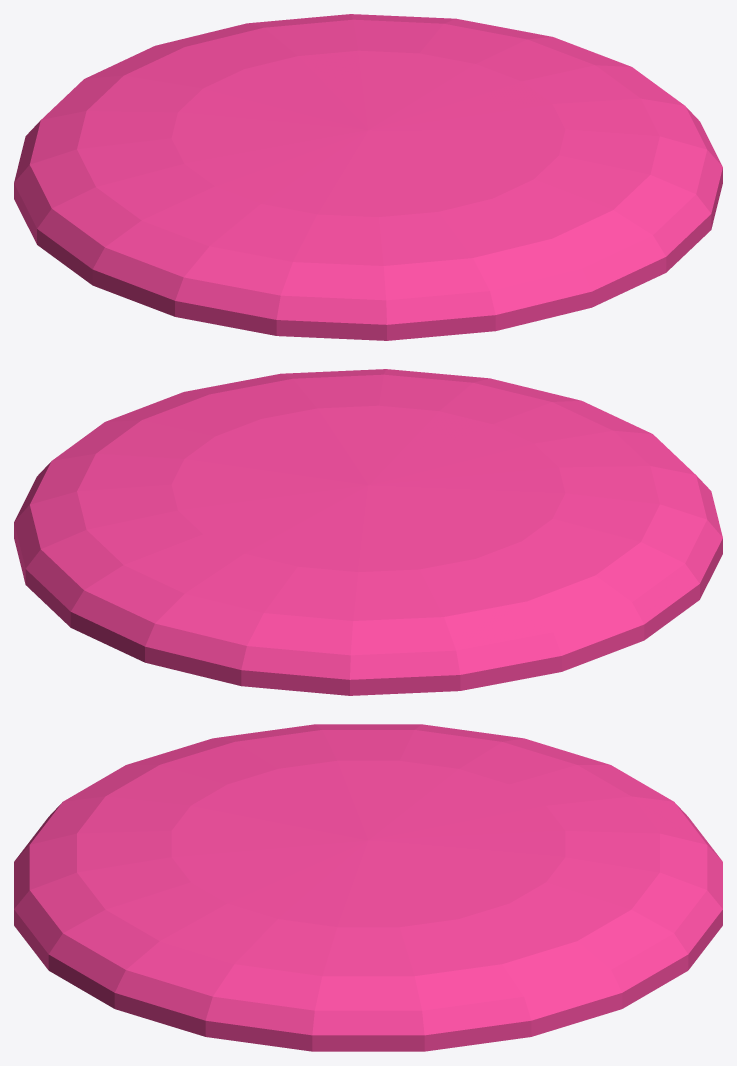
File: jelly_pad.fbx
3 renders of one model, top to bottom at view 1: azimuth 30°, elevation 25°; view 2: azimuth 150°, elevation 25°; view 3: azimuth 270°, elevation 25°, orthographic.
Parts seen in each view (by area): view 1: Jelly; view 2: Jelly; view 3: Jelly.
Part boxes in pixels (<box>): Jelly: <box>14,14,722,340</box>; Jelly: <box>14,369,722,695</box>; Jelly: <box>14,724,722,1051</box>.
Size of the model in its own units: 17.78 by 1.7 by 17.78.
